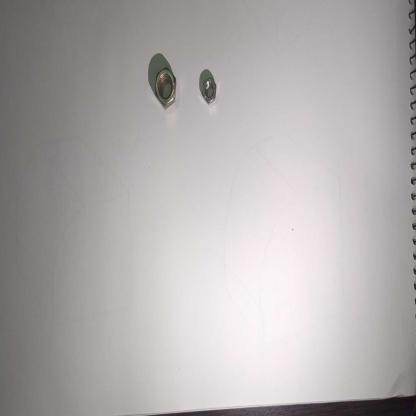NUTS: (153, 62, 178, 112), (201, 73, 218, 106)
